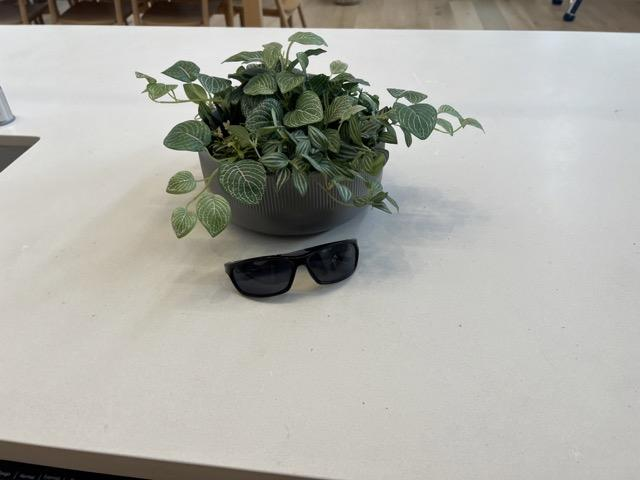Sunglasses: (226, 237, 361, 299)
